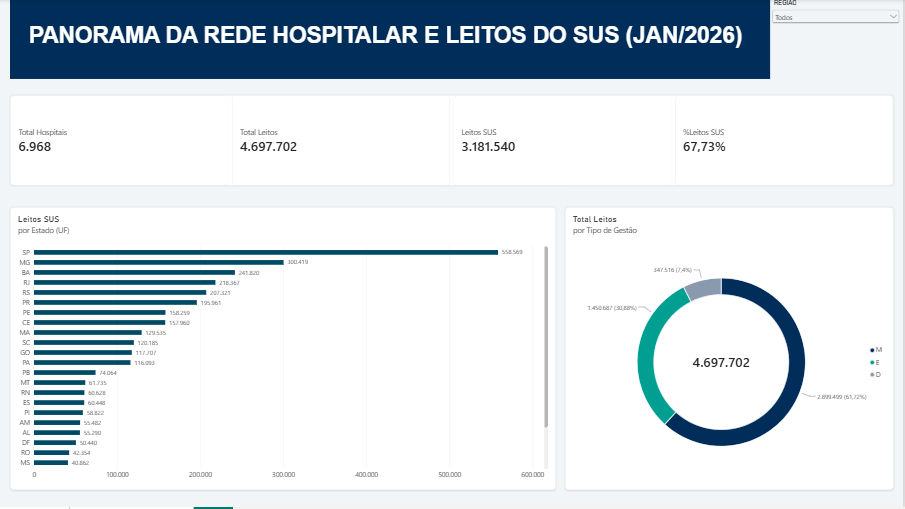

The dashboard page shown, as its layout file describes it:
{"tool":"powerbi","page":{"name":"Visão Geral","canvas":[1920,1080],"ordinal":0},"visuals":[{"type":"cardVisual","fields":{"Data":["Leitos_2026.Total Hospitais","Leitos_2026.Total Leitos","Leitos_2026.Leitos SUS","Leitos_2026.%Leitos SUS"]},"box":[23.4,204.1,1879.4,193.5],"z":0},{"type":"slicer","fields":{"Values":["Leitos_2026.REGIAO"]},"box":[1639.1,0,280,280],"z":1000},{"type":"textbox","box":[23.4,0,1615.7,170.1],"z":2000},{"type":"clusteredBarChart","fields":{"Category":["Leitos_2026.UF"],"Y":["Leitos_2026.Leitos SUS"]},"box":[23.4,442.2,1160.8,601.7],"z":3000},{"type":"donutChart","fields":{"Category":["Leitos_2026.TP_GESTAO"],"Y":["Leitos_2026.Total Leitos"]},"box":[1203.3,442.2,699.4,601.7],"z":4000}]}

Visuals, with their boxes in screenshot pixels (x1, y1, x2, y2), scaled from the page's 1920x1080 canvas onto the 905x509 screenshot:
cardVisual - Leitos_2026.Total Hospitais x Leitos_2026.Total Leitos: detection(11, 96, 897, 187)
slicer - Leitos_2026.REGIAO: detection(773, 0, 904, 132)
textbox: detection(11, 0, 773, 80)
clusteredBarChart - Leitos_2026.UF x Leitos_2026.Leitos SUS: detection(11, 208, 558, 492)
donutChart - Leitos_2026.TP_GESTAO x Leitos_2026.Total Leitos: detection(567, 208, 897, 492)
